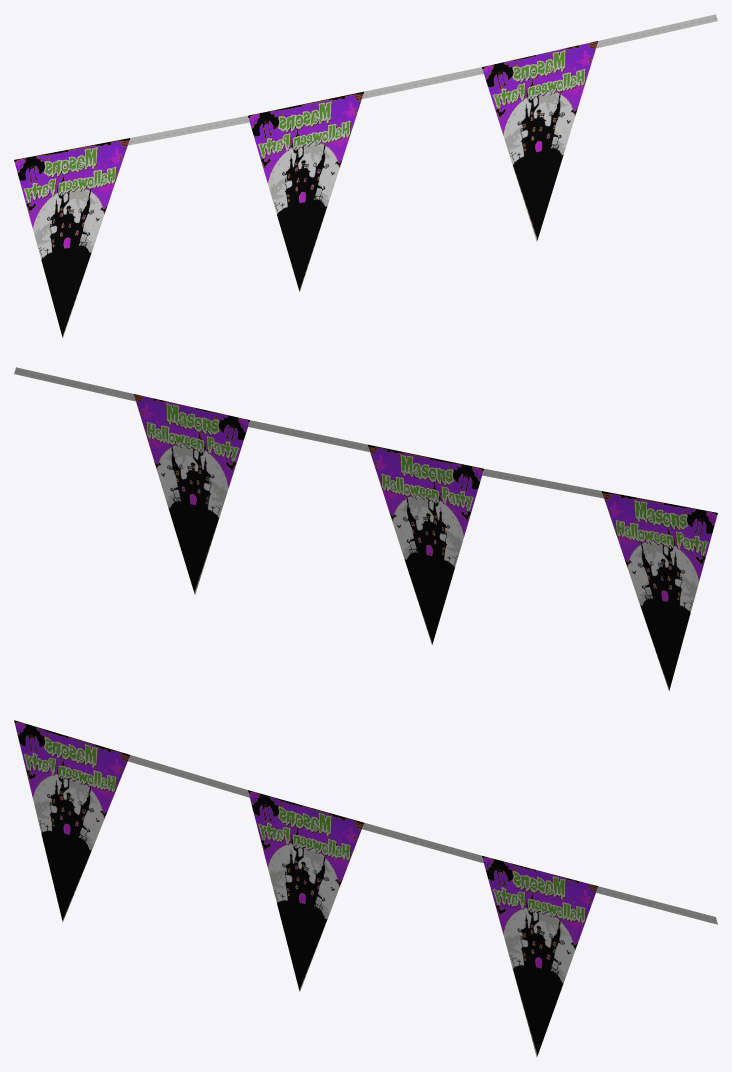
File: HW_FlagPurple.fbx
The picture shows the model from 3 angles, top to bottom: view 1: azimuth 30°, elevation 25°; view 2: azimuth 150°, elevation 25°; view 3: azimuth 330°, elevation 25°; orthographic projection.
Visible parts, largest first — view 1: HW_FlagPurple; view 2: HW_FlagPurple; view 3: HW_FlagPurple.
Boxes of the visible parts, box(x1,y1,x2,y2) form: HW_FlagPurple: box(14, 14, 717, 338); HW_FlagPurple: box(14, 367, 717, 691); HW_FlagPurple: box(14, 720, 717, 1056).
Bounding box in the file's own units: 2 × 0.5712 × 0.
1 material, 1 textured.
